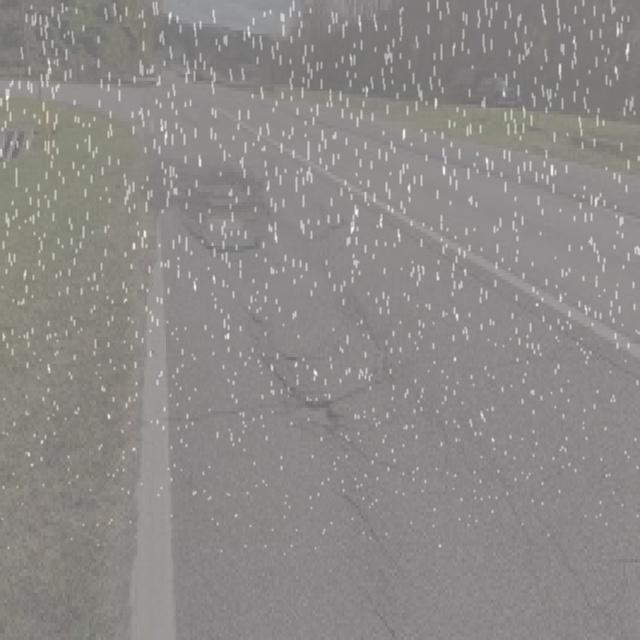Pothole: (218, 260, 402, 429), (185, 174, 294, 277)
